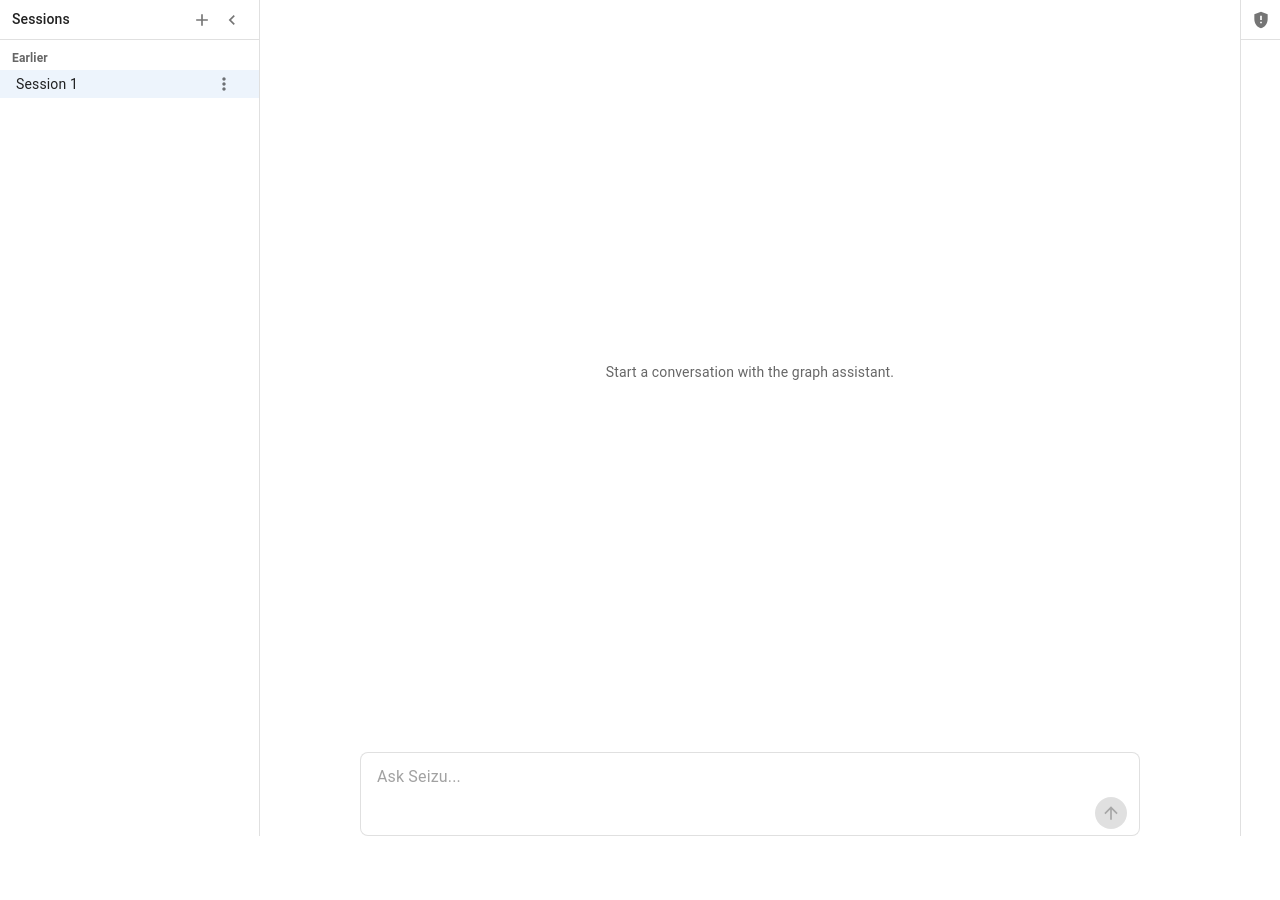
it: ChatInterface › does not reload the session it is leaving on New session
Click the button named "New session" at (202, 20), box [187,4,217,34]
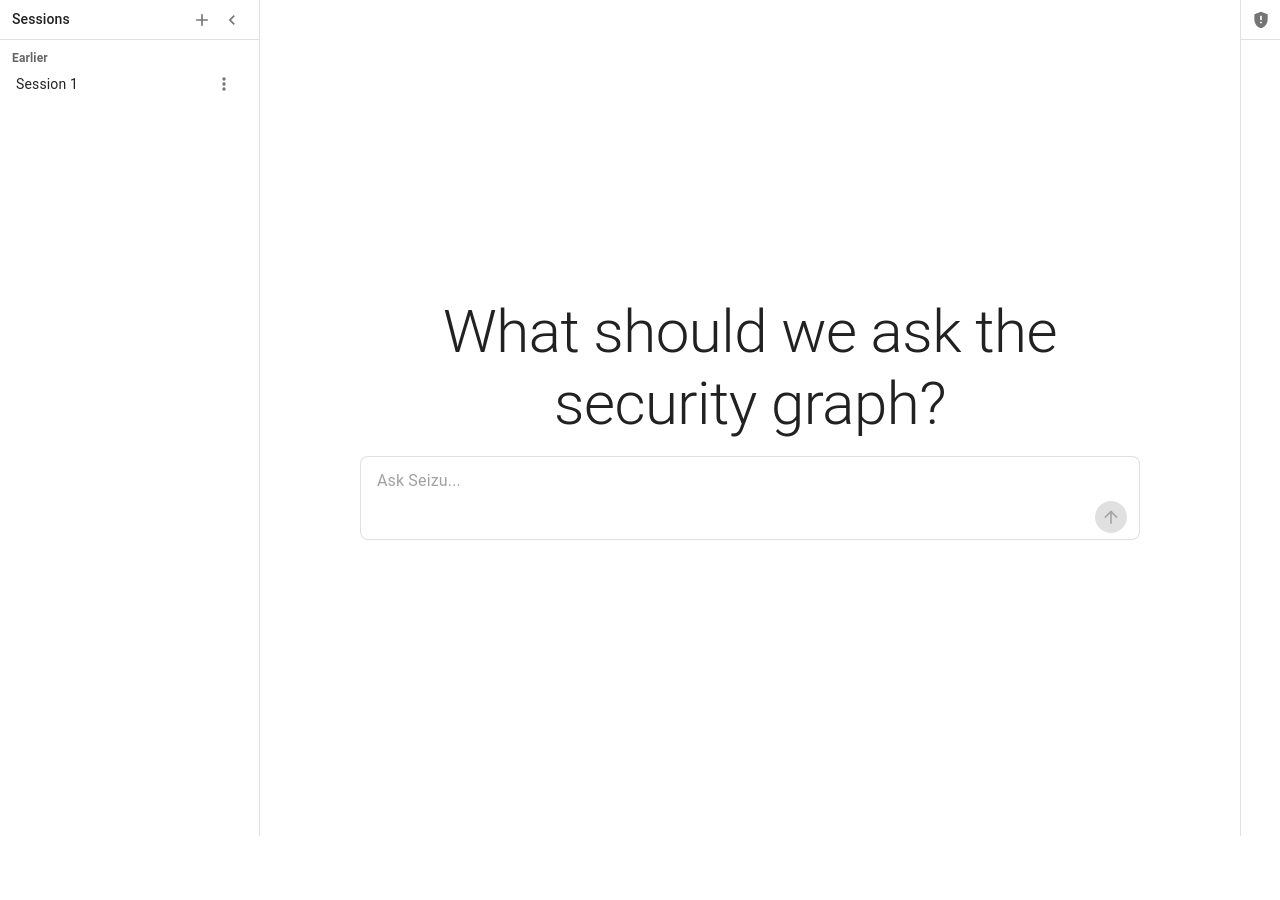
Expected: the heading "What should we ask the security graph?" is shown, [443,296,1057,439]
